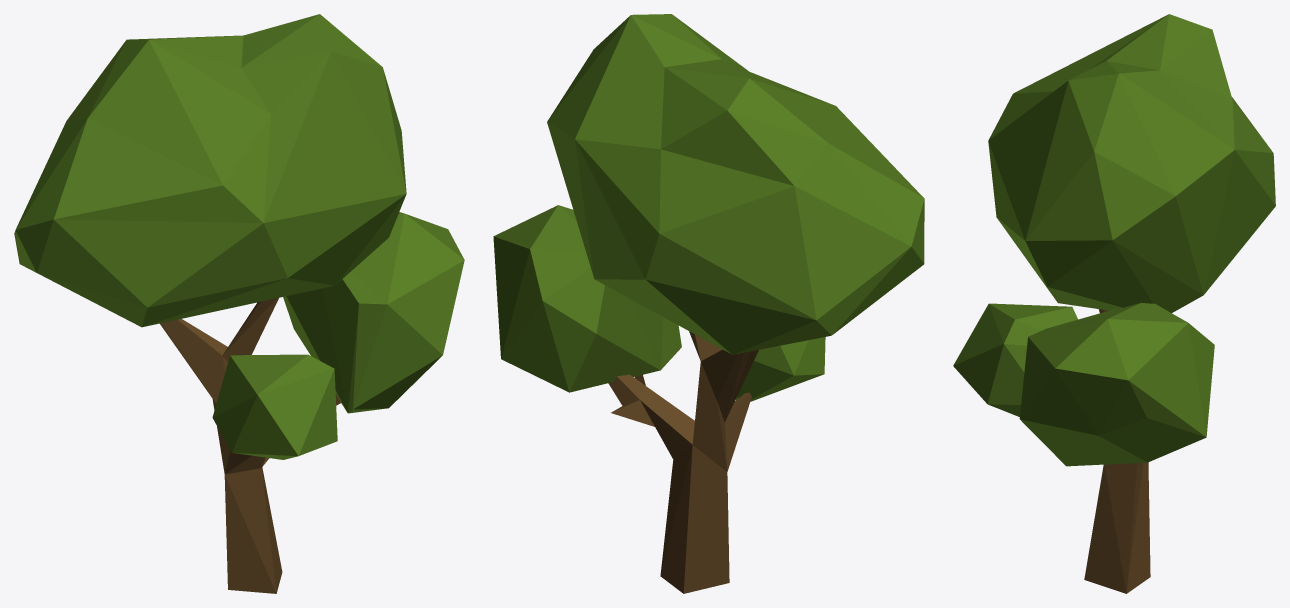
File: temp-decid.tall-op0.3.gltf
3 views of the same model, side by side, from view 1: azimuth 30°, elevation 25°; view 2: azimuth 150°, elevation 25°; view 3: azimuth 270°, elevation 25° (orthographic). The views are drawn at different scales.
Parts seen in each view (by area): view 1: Tree1_1; view 2: Tree1_1; view 3: Tree1_1.
Boxes of the visible parts, x1,y1,x2,y2 form: Tree1_1: [14, 14, 464, 593]; Tree1_1: [493, 14, 924, 593]; Tree1_1: [953, 14, 1275, 593].
Bounding box in the file's own units: 5.93 × 7.35 × 4.01.
Materials: 1 (1 with a texture image).
